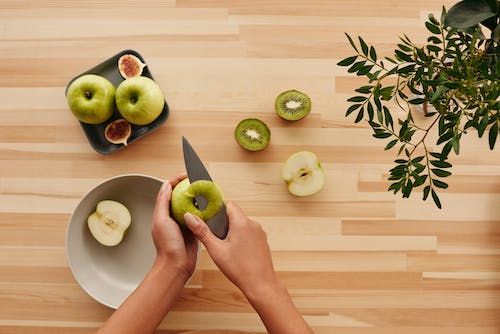knife: (181, 134, 231, 241)
